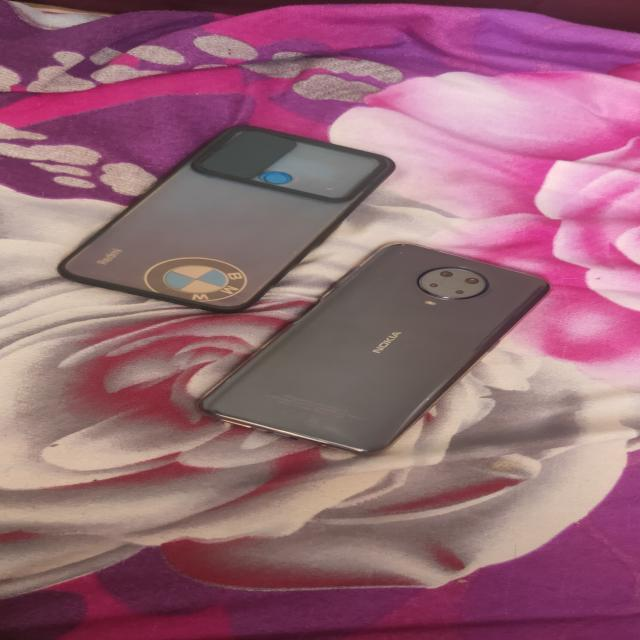Phone: (192, 241, 553, 463), (53, 122, 400, 318)
